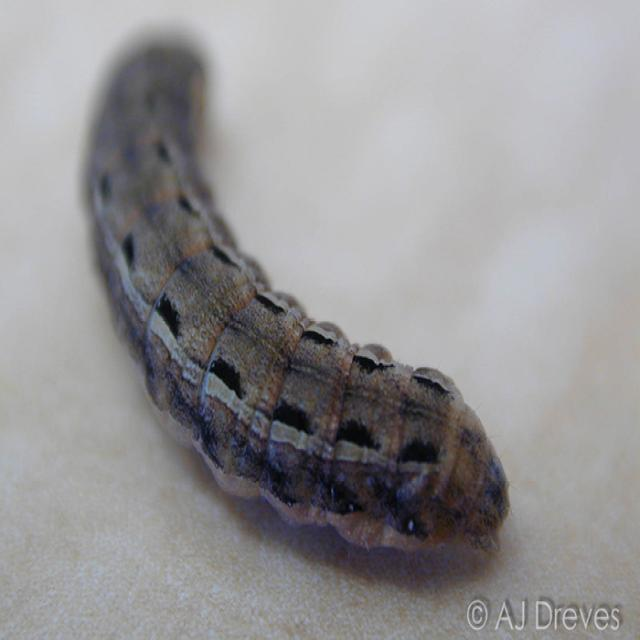Cutworm: (92, 36, 516, 580)
